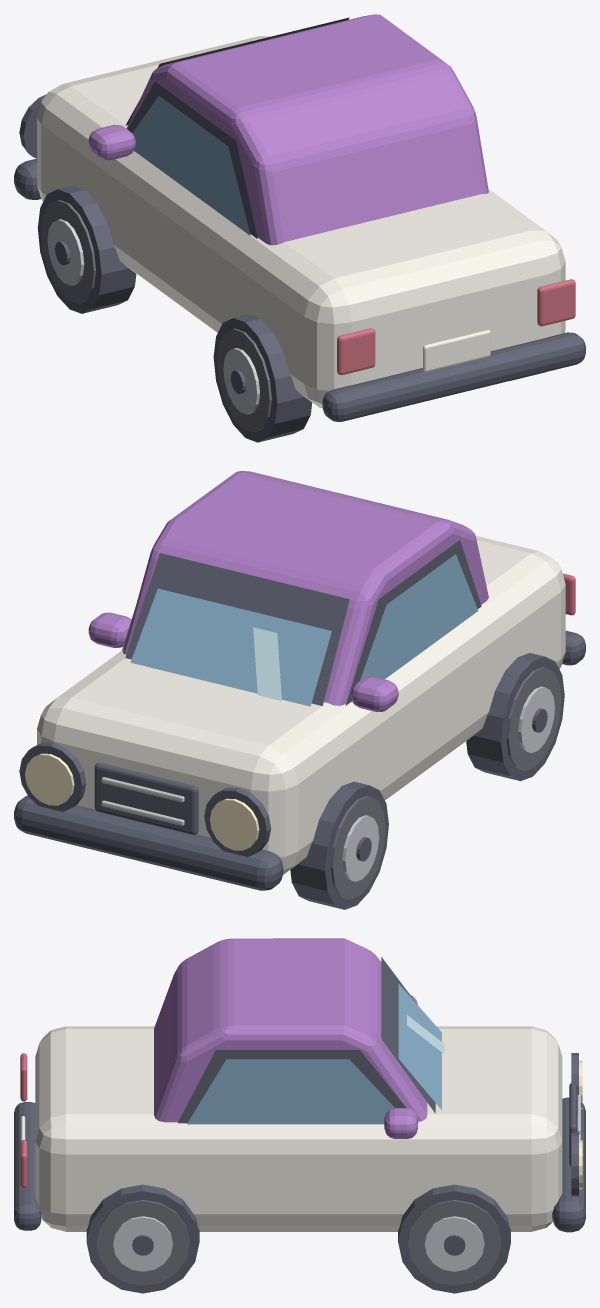
The model's file is compact.glb.
3 views of the same model, one above another, from view 1: azimuth 30°, elevation 25°; view 2: azimuth 150°, elevation 25°; view 3: azimuth 270°, elevation 25° (orthographic). The views are drawn at different scales.
Parts seen in each view (by area): view 1: Rounded_body, Shaped_passenger_cabin, Rear_bumper, Side_glass, Rubber_tire, Rubber_tire.002, Wheel_sidewall, Wheel_sidewall.002, Side_window_seal, License_plate, Silver_hub, Silver_hub.002 (+6 smaller); view 2: Rounded_body, Shaped_passenger_cabin, Blue_windscreen, Front_bumper, Dark_windscreen_seal, Side_glass, Rubber_tire, Rubber_tire.002, Grille, Wheel_sidewall.002, Wheel_sidewall, Side_window_seal (+12 smaller); view 3: Rounded_body, Shaped_passenger_cabin, Side_glass.001, Wheel_sidewall.001, Wheel_sidewall.003, Rubber_tire.003, Rubber_tire.001, Side_window_seal.001, Blue_windscreen, Rear_bumper, Front_bumper, Silver_hub.003 (+5 smaller).
Boxes of the visible parts, bbox=[...] form: Rounded_body: bbox=[37, 36, 565, 408]; Shaped_passenger_cabin: bbox=[126, 14, 488, 245]; Rear_bumper: bbox=[322, 332, 585, 421]; Side_glass: bbox=[132, 96, 250, 235]; Rubber_tire: bbox=[37, 185, 136, 313]; Rubber_tire.002: bbox=[213, 314, 312, 442]; Wheel_sidewall: bbox=[41, 200, 95, 303]; Wheel_sidewall.002: bbox=[216, 328, 271, 432]; Side_window_seal: bbox=[127, 82, 257, 238]; License_plate: bbox=[423, 330, 490, 371]; Silver_hub: bbox=[47, 219, 84, 285]; Silver_hub.002: bbox=[223, 348, 259, 414]; Rounded_body: bbox=[37, 535, 565, 874]; Shaped_passenger_cabin: bbox=[123, 471, 488, 705]; Blue_windscreen: bbox=[130, 588, 331, 706]; Front_bumper: bbox=[14, 795, 283, 890]; Dark_windscreen_seal: bbox=[125, 553, 349, 705]; Side_glass: bbox=[352, 554, 478, 702]; Rubber_tire: bbox=[290, 781, 388, 909]; Rubber_tire.002: bbox=[466, 653, 564, 781]; Grille: bbox=[94, 763, 198, 834]; Wheel_sidewall.002: bbox=[506, 667, 561, 770]; Wheel_sidewall: bbox=[330, 796, 385, 899]; Side_window_seal: bbox=[345, 540, 481, 705]; Rounded_body: bbox=[35, 1026, 562, 1231]; Shaped_passenger_cabin: bbox=[154, 938, 427, 1122]; Side_glass.001: bbox=[187, 1059, 394, 1124]; Wheel_sidewall.001: bbox=[407, 1200, 501, 1285]; Wheel_sidewall.003: bbox=[96, 1200, 189, 1285]; Rubber_tire.003: bbox=[86, 1184, 199, 1293]; Rubber_tire.001: bbox=[398, 1184, 510, 1293]; Side_window_seal.001: bbox=[178, 1050, 418, 1123]; Blue_windscreen: bbox=[398, 984, 441, 1109]; Rear_bumper: bbox=[14, 1102, 41, 1230]; Front_bumper: bbox=[552, 1097, 585, 1232]; Silver_hub.003: bbox=[113, 1216, 172, 1271].
Bounding box in the file's own units: 2.04 × 1.8 × 3.74.
